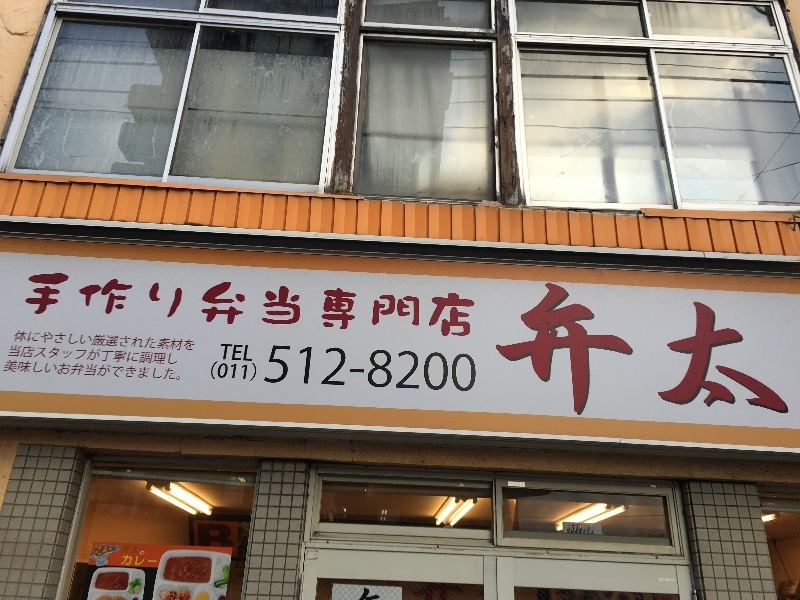text: (497, 272, 512, 423), (513, 272, 528, 423), (529, 272, 544, 423), (545, 272, 560, 423), (561, 272, 576, 423), (577, 272, 592, 423), (593, 272, 608, 423), (609, 272, 624, 423), (625, 272, 640, 423), (641, 272, 656, 423), (657, 272, 672, 423), (673, 272, 688, 423), (689, 272, 704, 423), (705, 272, 720, 423), (721, 272, 736, 423), (737, 272, 752, 423), (753, 272, 768, 423), (769, 272, 784, 423), (785, 272, 800, 423), (33, 271, 48, 340), (49, 271, 64, 340), (65, 271, 80, 340), (81, 271, 96, 340), (97, 271, 112, 340), (113, 271, 128, 340), (129, 271, 144, 340), (145, 271, 160, 340), (161, 271, 176, 340), (177, 271, 192, 340), (193, 271, 208, 340), (209, 271, 224, 340), (225, 271, 240, 340), (241, 271, 256, 340), (257, 271, 272, 340), (273, 271, 288, 340), (289, 271, 304, 340), (305, 271, 320, 340), (321, 271, 336, 340), (337, 271, 352, 340), (353, 271, 368, 340), (369, 271, 384, 340), (385, 271, 400, 340), (401, 271, 416, 340), (417, 271, 432, 340), (433, 271, 448, 340), (449, 271, 464, 340), (465, 271, 478, 340), (273, 342, 288, 394), (289, 342, 304, 394), (305, 342, 320, 394), (321, 342, 336, 394), (337, 342, 352, 394), (353, 342, 368, 394), (369, 342, 384, 394), (385, 342, 400, 394), (401, 342, 416, 394), (417, 342, 432, 394), (433, 342, 448, 394), (449, 342, 464, 394), (465, 342, 479, 394), (209, 522, 224, 553), (17, 328, 32, 354), (33, 328, 48, 354), (49, 328, 64, 354), (65, 328, 80, 354), (81, 328, 96, 354), (97, 328, 112, 354), (113, 328, 128, 354), (129, 328, 144, 354), (145, 328, 160, 354), (161, 328, 176, 354), (177, 328, 192, 354), (17, 358, 32, 383), (33, 358, 48, 383), (49, 358, 64, 383), (65, 358, 80, 383), (81, 358, 96, 383), (97, 358, 112, 383), (113, 358, 128, 383), (129, 358, 144, 383), (145, 358, 160, 383), (161, 358, 176, 383), (27, 271, 32, 340), (17, 344, 32, 367), (33, 344, 48, 367), (49, 344, 64, 367), (65, 344, 80, 367), (81, 344, 96, 367), (97, 344, 112, 367), (113, 344, 128, 367), (129, 344, 144, 367), (145, 344, 160, 367), (161, 344, 176, 367), (225, 340, 240, 363), (197, 522, 208, 553), (225, 360, 240, 382), (241, 360, 256, 382), (241, 340, 255, 363), (225, 522, 235, 553), (211, 360, 224, 382), (5, 358, 16, 383), (129, 556, 144, 568), (9, 344, 16, 367), (145, 556, 158, 568), (177, 358, 182, 383), (129, 545, 140, 555), (193, 328, 197, 354), (220, 340, 224, 363), (257, 360, 261, 382), (122, 556, 128, 568), (177, 344, 180, 367), (122, 545, 128, 555), (271, 342, 272, 394), (15, 328, 16, 354), (140, 550, 144, 556)
